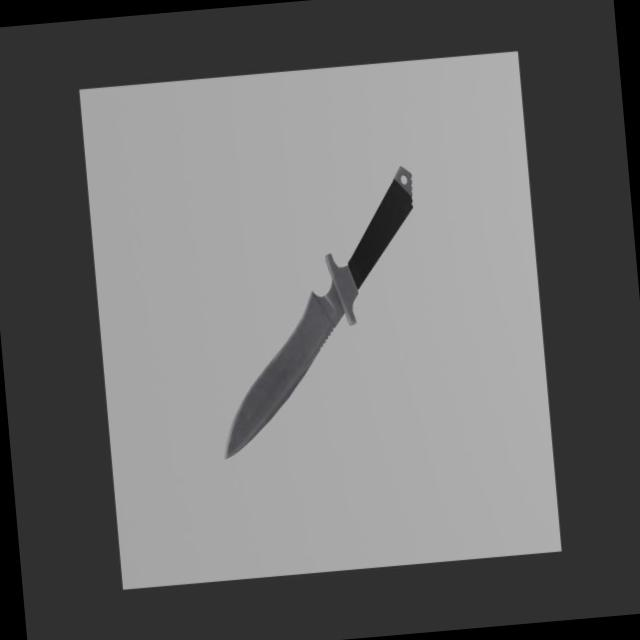knife: (338, 164, 421, 290)
